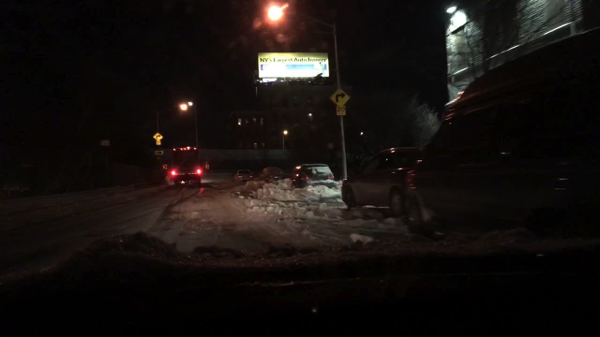car: (397, 30, 599, 242), (341, 146, 425, 213), (171, 146, 202, 189), (291, 163, 335, 190), (257, 166, 286, 182), (233, 169, 254, 183)
traffic sign: (330, 89, 350, 107), (336, 106, 346, 117), (153, 132, 164, 140), (100, 140, 111, 146), (162, 164, 168, 169), (157, 139, 161, 145), (154, 152, 162, 155)
